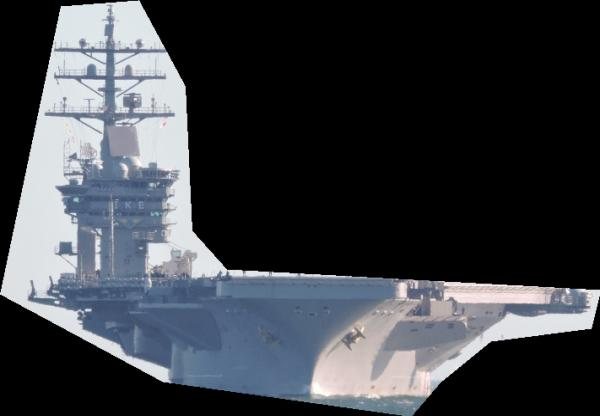Aircraft Carrier: (0, 0, 600, 416)
